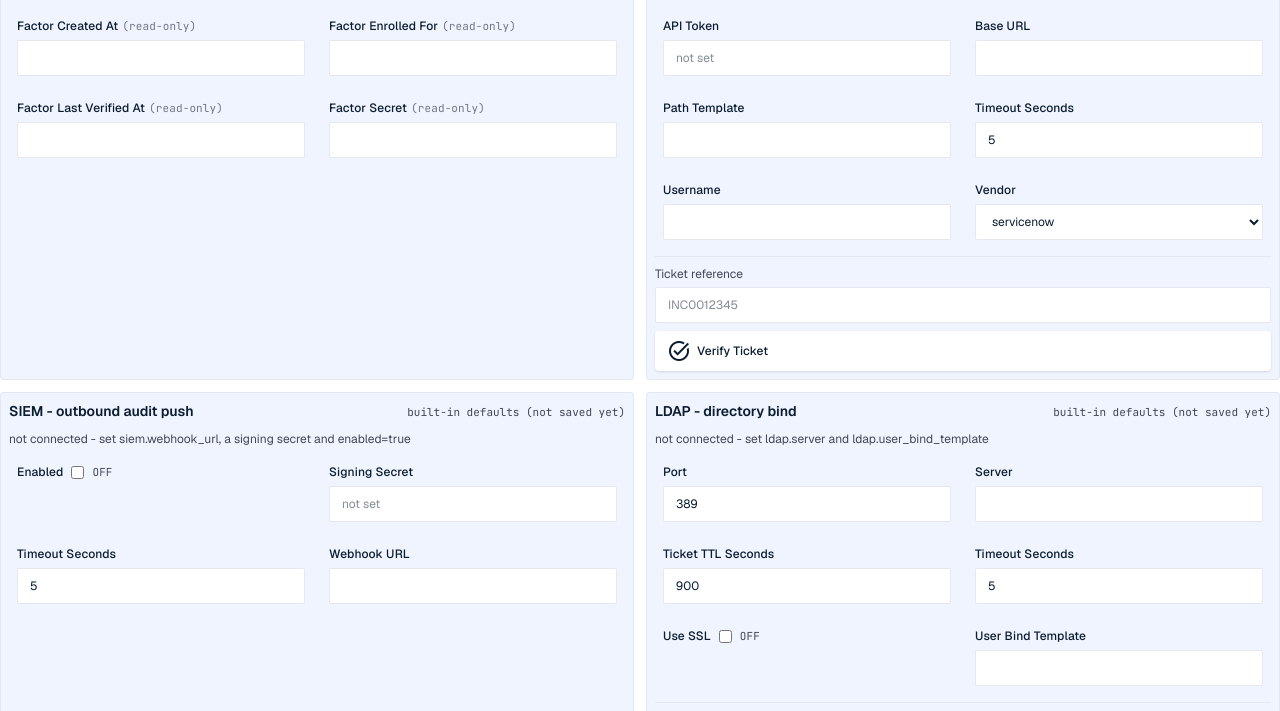
Test: ITSM verify (11.4 NEW action - no legacy button calls it) › a dead backend renders the shared honest down line
This screenshot has width=1280, height=711.
(page scrolled)
Click the button "Verify Ticket" at (733, 351), box [655,331,1271,371]
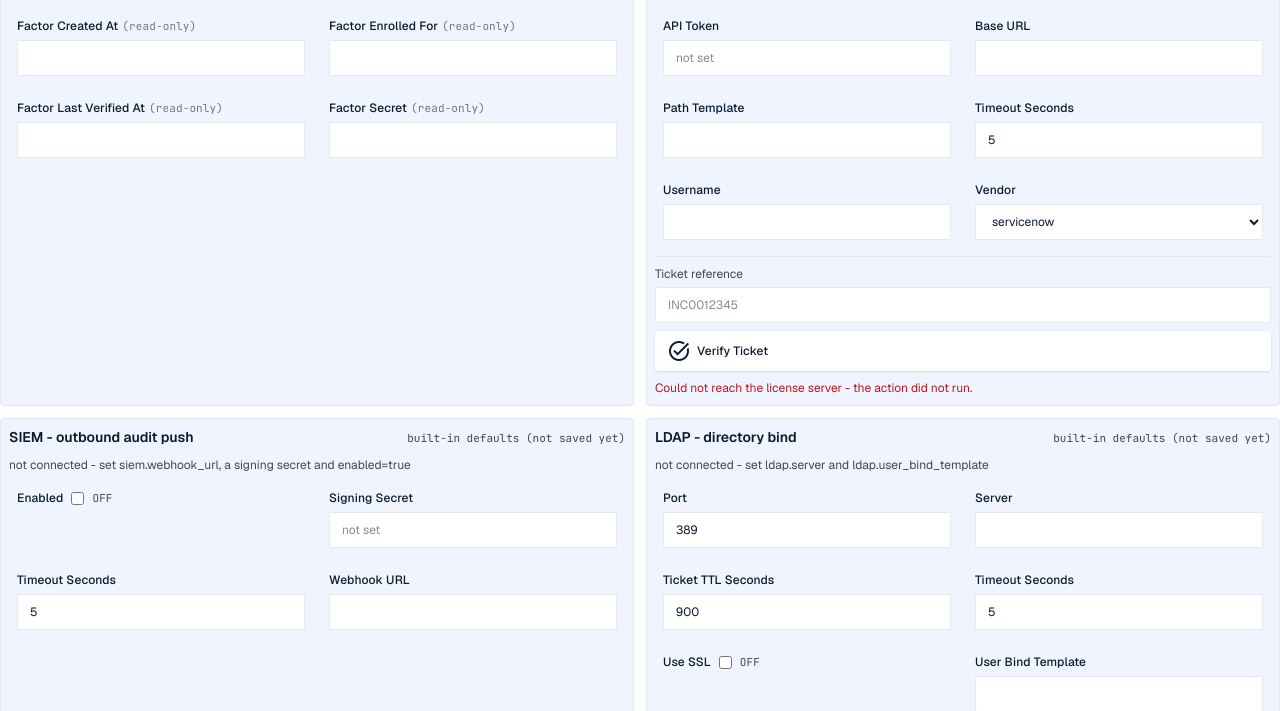
expect the text "Could not reach the license server - the action did not run." is shown: met, box [655,380,972,396]
